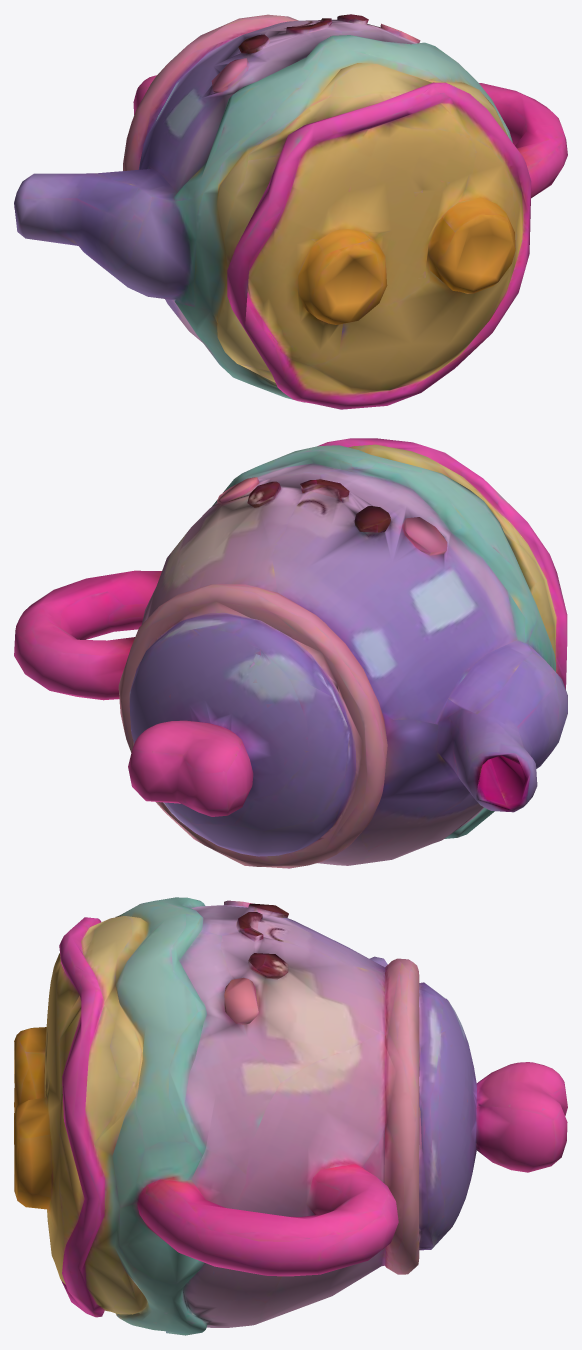
3 renders of one model, top to bottom at view 1: azimuth 30°, elevation 25°; view 2: azimuth 150°, elevation 25°; view 3: azimuth 270°, elevation 25°, orthographic. The views are drawn at different scales.
Visible parts, largest first — view 1: material; view 2: material; view 3: material.
Part boxes in pixels (bbox=[...]): material: bbox=[14, 14, 567, 409]; material: bbox=[14, 438, 567, 868]; material: bbox=[14, 897, 567, 1335].
Size of the model in its own units: 1 by 0.6764 by 0.8481.
Materials: 1 (1 with a texture image).
